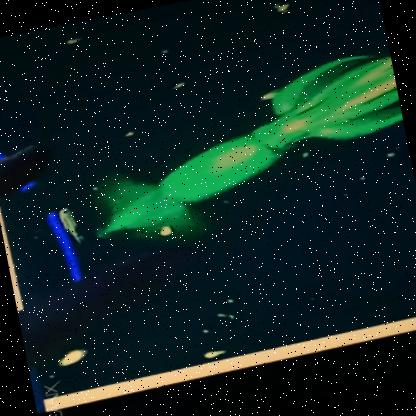colossal_squid: (79, 44, 415, 254)
